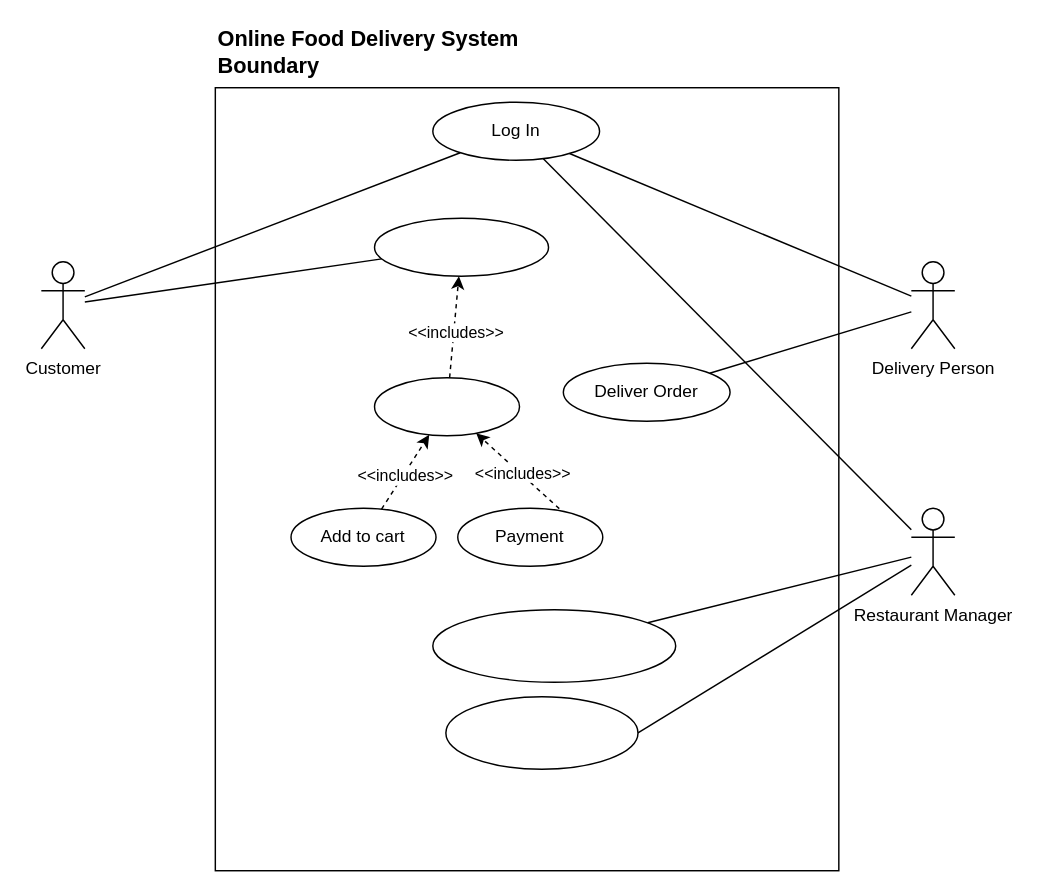
Image size: 1037x896. Some labels were removed from this diagram. Each missing label, with the centre of its shape:
Assign Delivery: the point at 541,732
Complete checkout: the point at 446,406
Manage food catalogue: the point at 553,645
Order Food: the point at 461,246
